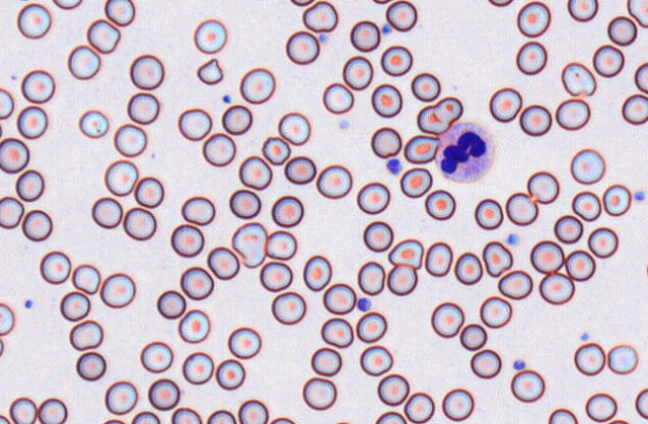GRAN: (438, 122, 496, 180)
PLT: (385, 158, 404, 176), (356, 296, 372, 311), (512, 357, 526, 371), (507, 232, 519, 246), (634, 189, 645, 202), (381, 23, 392, 35), (318, 32, 329, 43), (221, 93, 231, 104), (23, 298, 33, 309), (579, 333, 590, 343)
RBC: (416, 96, 462, 134), (239, 67, 275, 104), (316, 164, 352, 199), (570, 148, 605, 184), (100, 272, 135, 308), (129, 54, 164, 90), (104, 159, 138, 196), (16, 3, 51, 38), (430, 301, 464, 337), (516, 1, 550, 37), (86, 18, 120, 53), (238, 155, 272, 190), (193, 18, 227, 53), (538, 272, 574, 305), (530, 240, 564, 274), (302, 376, 336, 410), (170, 223, 204, 257), (285, 30, 319, 64), (21, 69, 55, 103), (510, 369, 545, 402), (104, 380, 137, 415), (177, 308, 210, 343), (271, 291, 306, 324), (489, 87, 522, 122), (177, 107, 212, 140), (302, 0, 338, 32), (227, 326, 261, 359), (180, 266, 213, 300), (123, 206, 156, 240), (277, 111, 310, 145), (356, 181, 390, 214), (67, 45, 100, 79), (113, 123, 146, 157), (202, 132, 235, 166), (555, 98, 590, 130), (387, 238, 423, 269), (505, 192, 538, 225), (479, 295, 512, 328), (441, 388, 474, 421), (359, 344, 393, 376), (207, 246, 239, 280), (515, 41, 547, 75), (39, 250, 71, 284), (322, 282, 356, 314), (342, 55, 373, 90), (403, 134, 439, 164), (302, 254, 331, 291), (573, 342, 605, 375), (147, 378, 180, 410), (377, 373, 409, 406), (527, 170, 559, 203), (182, 351, 214, 384), (592, 44, 624, 77), (519, 104, 552, 136), (69, 319, 103, 350), (16, 105, 47, 139), (371, 83, 402, 117), (497, 269, 532, 299), (0, 137, 29, 173), (271, 195, 303, 227), (322, 82, 354, 114), (127, 92, 159, 124), (399, 167, 432, 198), (320, 317, 353, 348), (140, 341, 173, 372), (181, 195, 215, 225), (424, 241, 452, 277), (564, 249, 595, 281), (386, 263, 417, 295), (403, 391, 434, 423), (133, 176, 164, 208), (356, 311, 387, 343), (385, 0, 417, 31), (587, 226, 618, 258), (21, 209, 52, 241), (91, 196, 122, 228), (370, 126, 401, 158), (380, 45, 412, 76), (259, 261, 292, 291), (454, 251, 483, 285), (357, 260, 385, 295), (265, 229, 296, 260), (424, 189, 455, 220), (59, 290, 90, 321), (221, 104, 252, 135), (585, 392, 617, 422), (310, 346, 342, 376), (363, 220, 393, 252), (215, 358, 245, 390), (229, 188, 261, 218), (602, 183, 631, 216), (607, 344, 638, 374), (470, 348, 501, 378), (75, 351, 106, 381), (571, 190, 601, 221), (607, 15, 637, 46), (350, 20, 380, 51), (15, 169, 44, 201), (474, 198, 503, 230), (284, 155, 316, 184), (156, 289, 186, 319), (71, 263, 100, 294), (553, 214, 583, 243), (410, 72, 440, 101), (78, 109, 108, 138), (261, 136, 290, 165), (621, 93, 647, 125), (104, 0, 135, 26), (0, 195, 24, 228), (37, 397, 67, 423), (459, 323, 487, 350), (237, 399, 268, 423), (9, 397, 37, 423), (567, 0, 598, 22), (627, 0, 648, 28), (170, 407, 202, 423), (0, 302, 14, 335), (0, 87, 14, 119), (548, 408, 577, 423), (206, 409, 236, 423), (374, 410, 406, 423), (634, 62, 647, 93), (131, 410, 160, 423), (635, 388, 647, 419), (52, 0, 82, 9), (268, 416, 295, 423), (488, 0, 513, 7), (290, 0, 314, 6), (102, 418, 125, 423), (606, 419, 630, 423), (0, 414, 10, 423), (332, 420, 354, 424), (0, 337, 4, 357), (372, 0, 392, 4)
Schistocyte: (230, 222, 268, 269), (562, 63, 598, 97), (484, 242, 513, 277), (196, 59, 224, 86)
